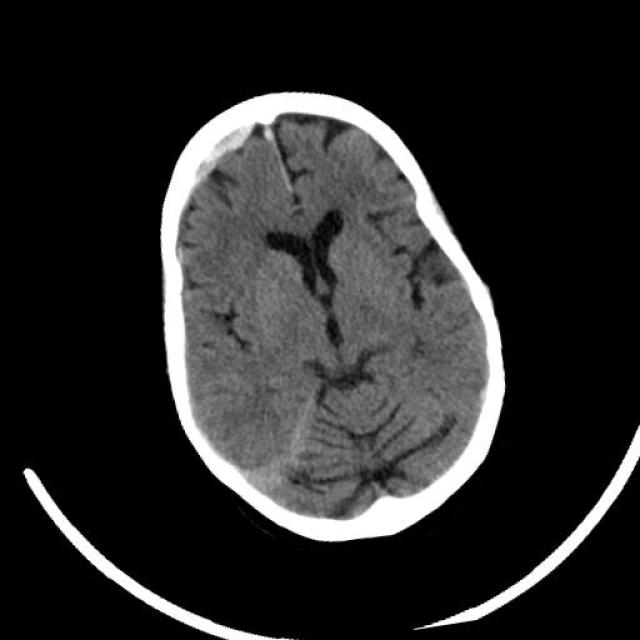Subdural: (139, 111, 283, 268)
